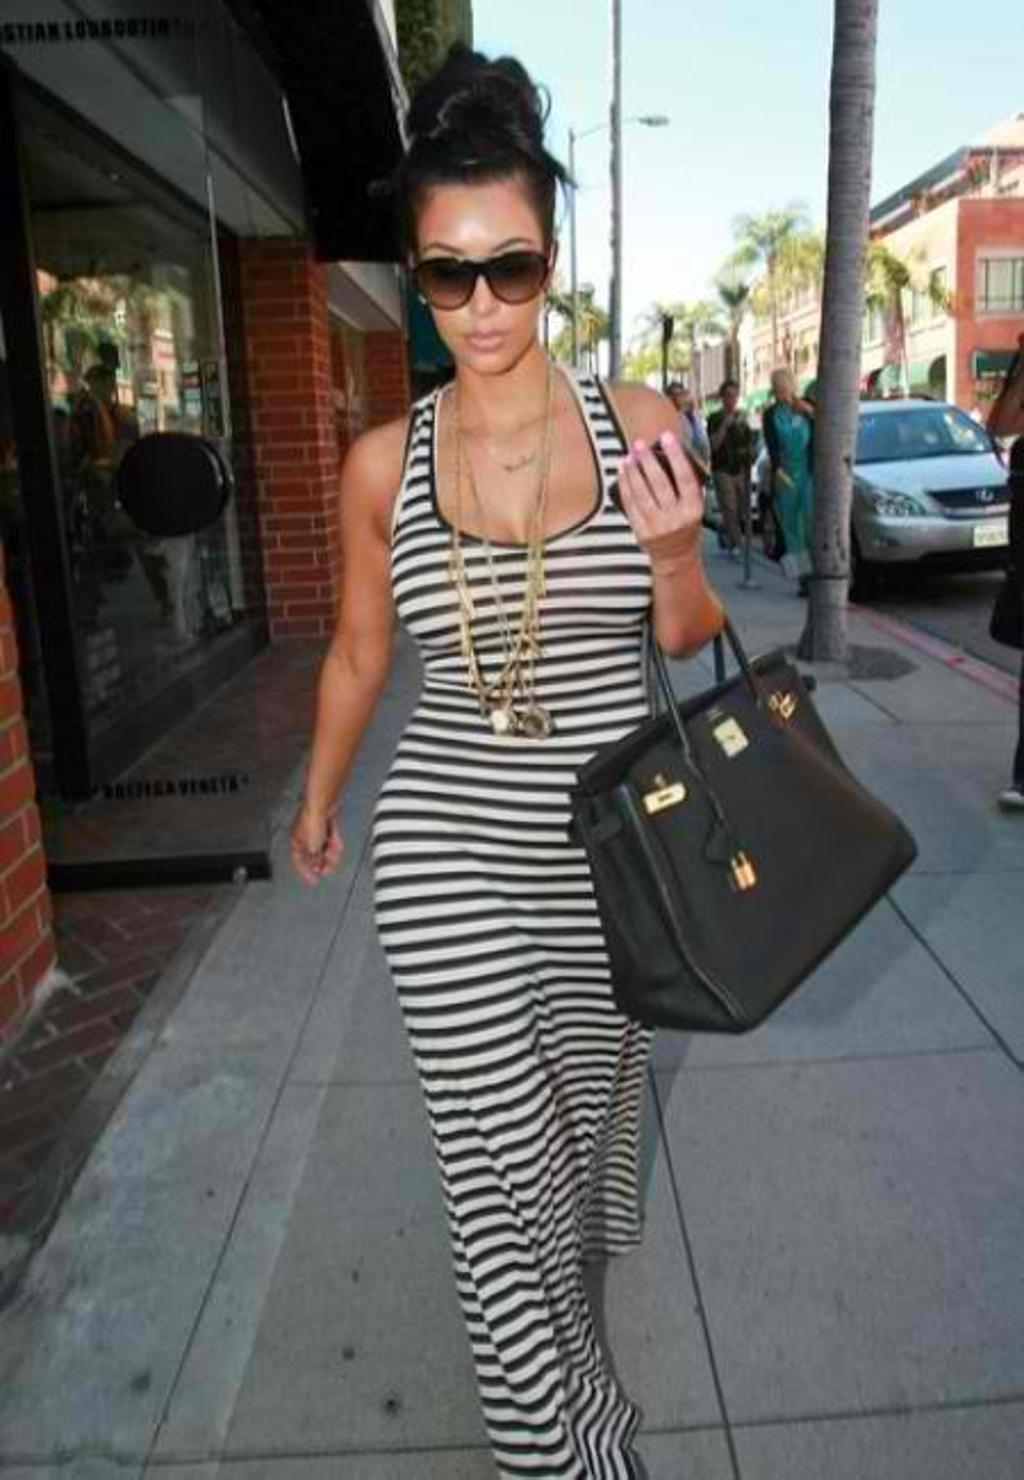face: (422, 165, 546, 367)
